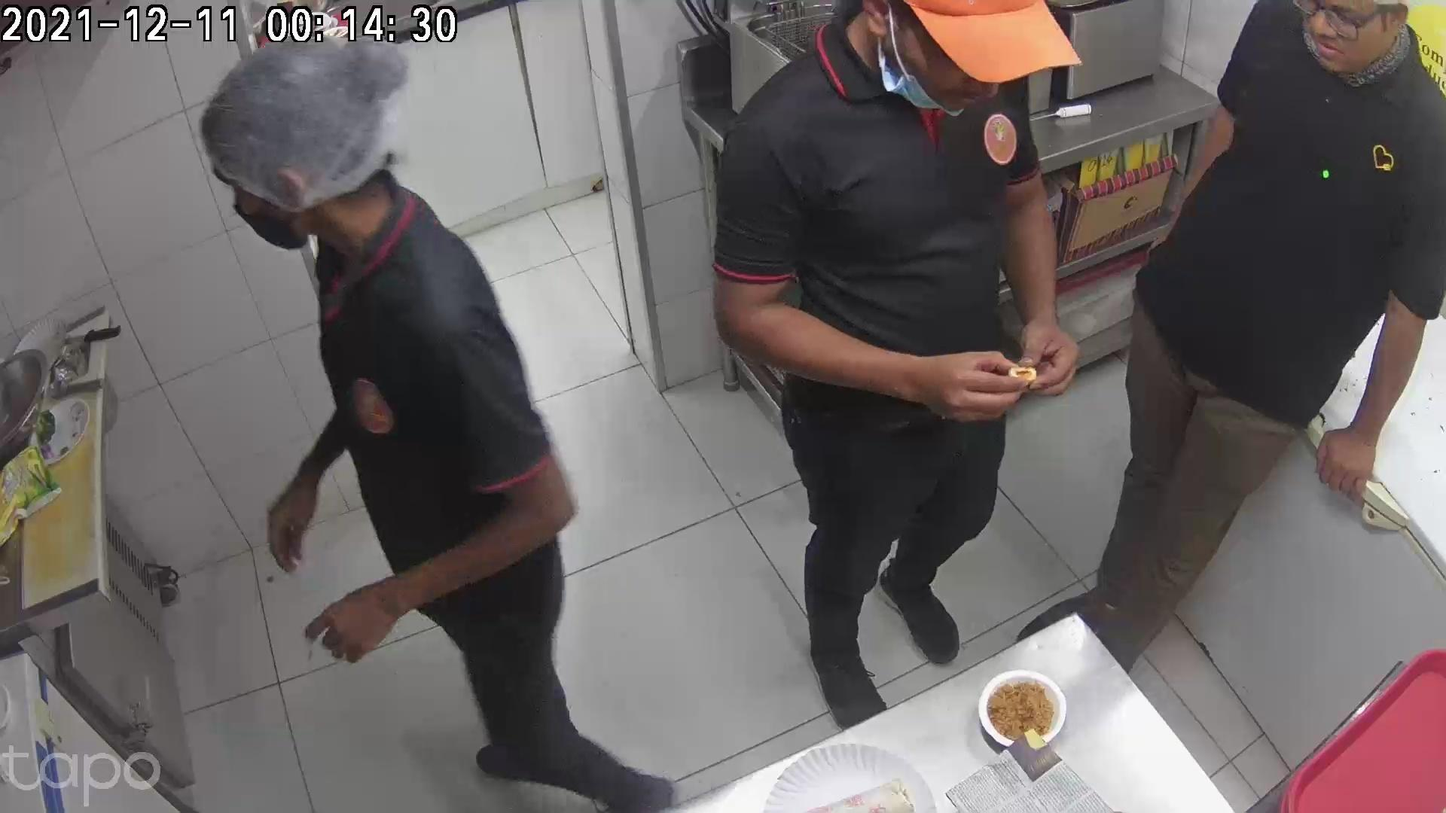gloves: (875, 618, 997, 743)
no_gloves: (1033, 581, 1113, 716)
